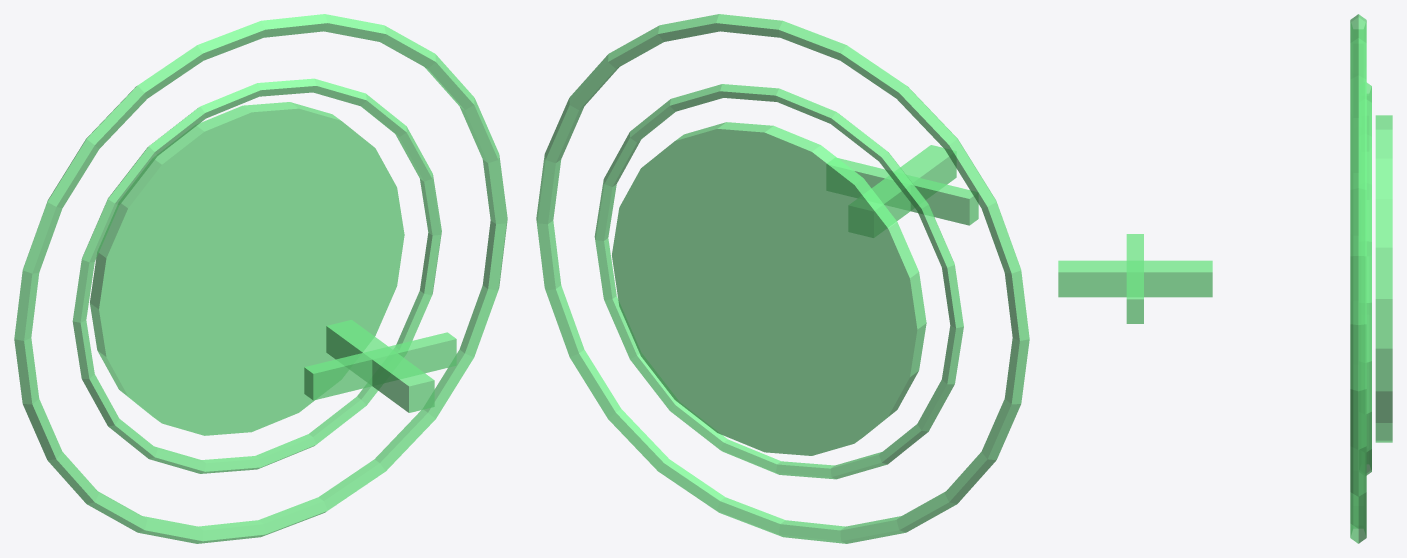
Rendered from 12_safe_zone_boundary.glb.
The picture shows the model from 3 angles, left to right: view 1: azimuth 30°, elevation 25°; view 2: azimuth 150°, elevation 25°; view 3: azimuth 270°, elevation 25°; orthographic projection. The views are drawn at different scales.
Visible parts, largest first — view 1: base_disc, safe_boundary, base_ring, plus_h, plus_v; view 2: base_disc, safe_boundary, base_ring, plus_h, plus_v; view 3: safe_boundary, base_disc, plus_v, base_ring, plus_h.
Part boxes in pixels (x1,y1,x2,y2): base_disc: (90,102,404,435); safe_boundary: (14,14,507,543); base_ring: (72,78,441,473); plus_h: (304,332,456,400); plus_v: (326,320,434,412); base_disc: (612,122,926,455); safe_boundary: (536,14,1029,543); base_ring: (594,84,963,479); plus_h: (827,158,978,225); plus_v: (849,145,956,237); safe_boundary: (1350,14,1366,543); base_disc: (1375,115,1392,442); plus_v: (1058,260,1212,297); base_ring: (1359,82,1371,475); plus_h: (1126,234,1143,323).
Bounding box in the file's own units: 1.55 × 1.55 × 0.975.
